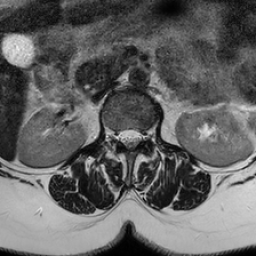CCS_normal: (126, 120, 134, 161)
LFS_stenosis: (142, 120, 150, 152)
LLS_normal: (134, 121, 142, 155)
RFS_normal: (109, 116, 118, 153)
RLS_normal: (118, 118, 126, 155)
